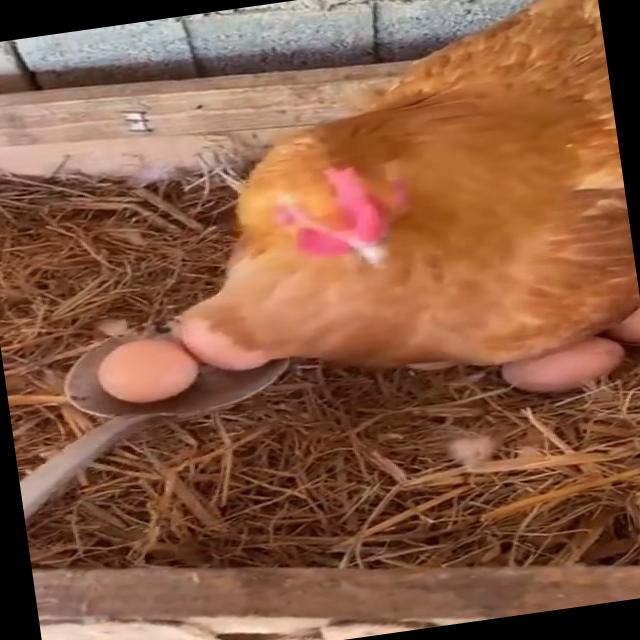crouch chicken: (131, 0, 640, 439)
